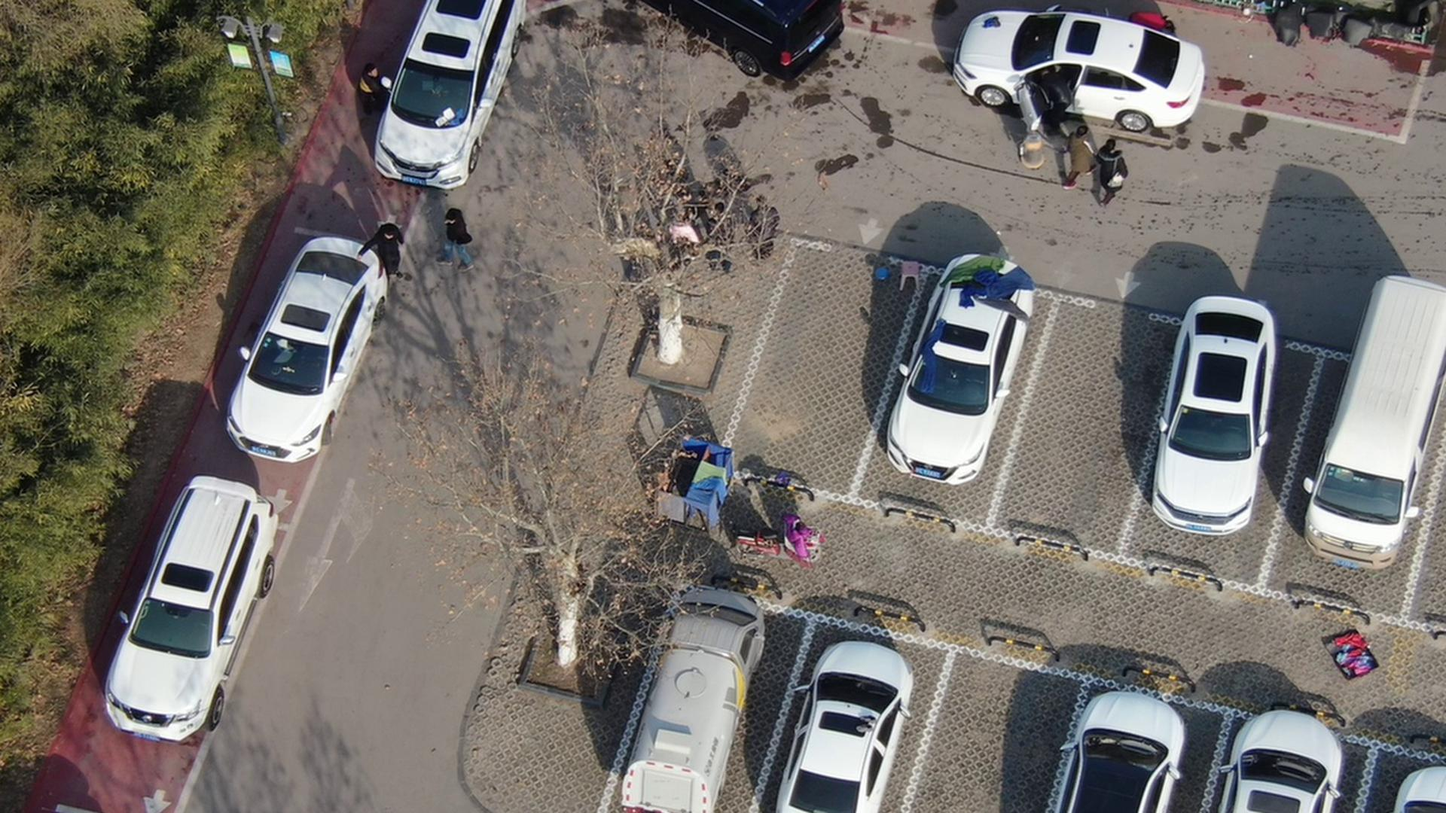human: (1096, 133, 1141, 210), (749, 188, 790, 269), (440, 197, 481, 274), (1066, 114, 1106, 191), (1041, 58, 1082, 132), (704, 190, 740, 273), (360, 58, 397, 117), (371, 224, 410, 279)
